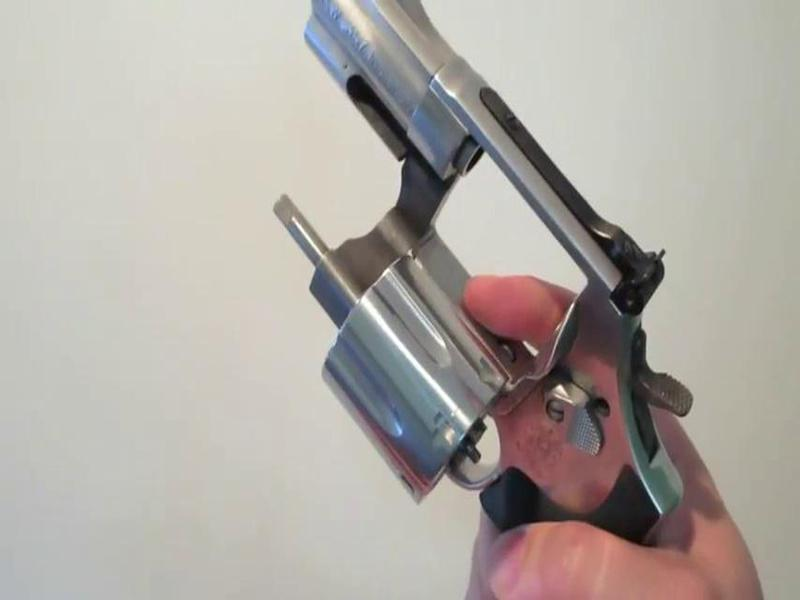Revolver: (262, 5, 707, 581)
